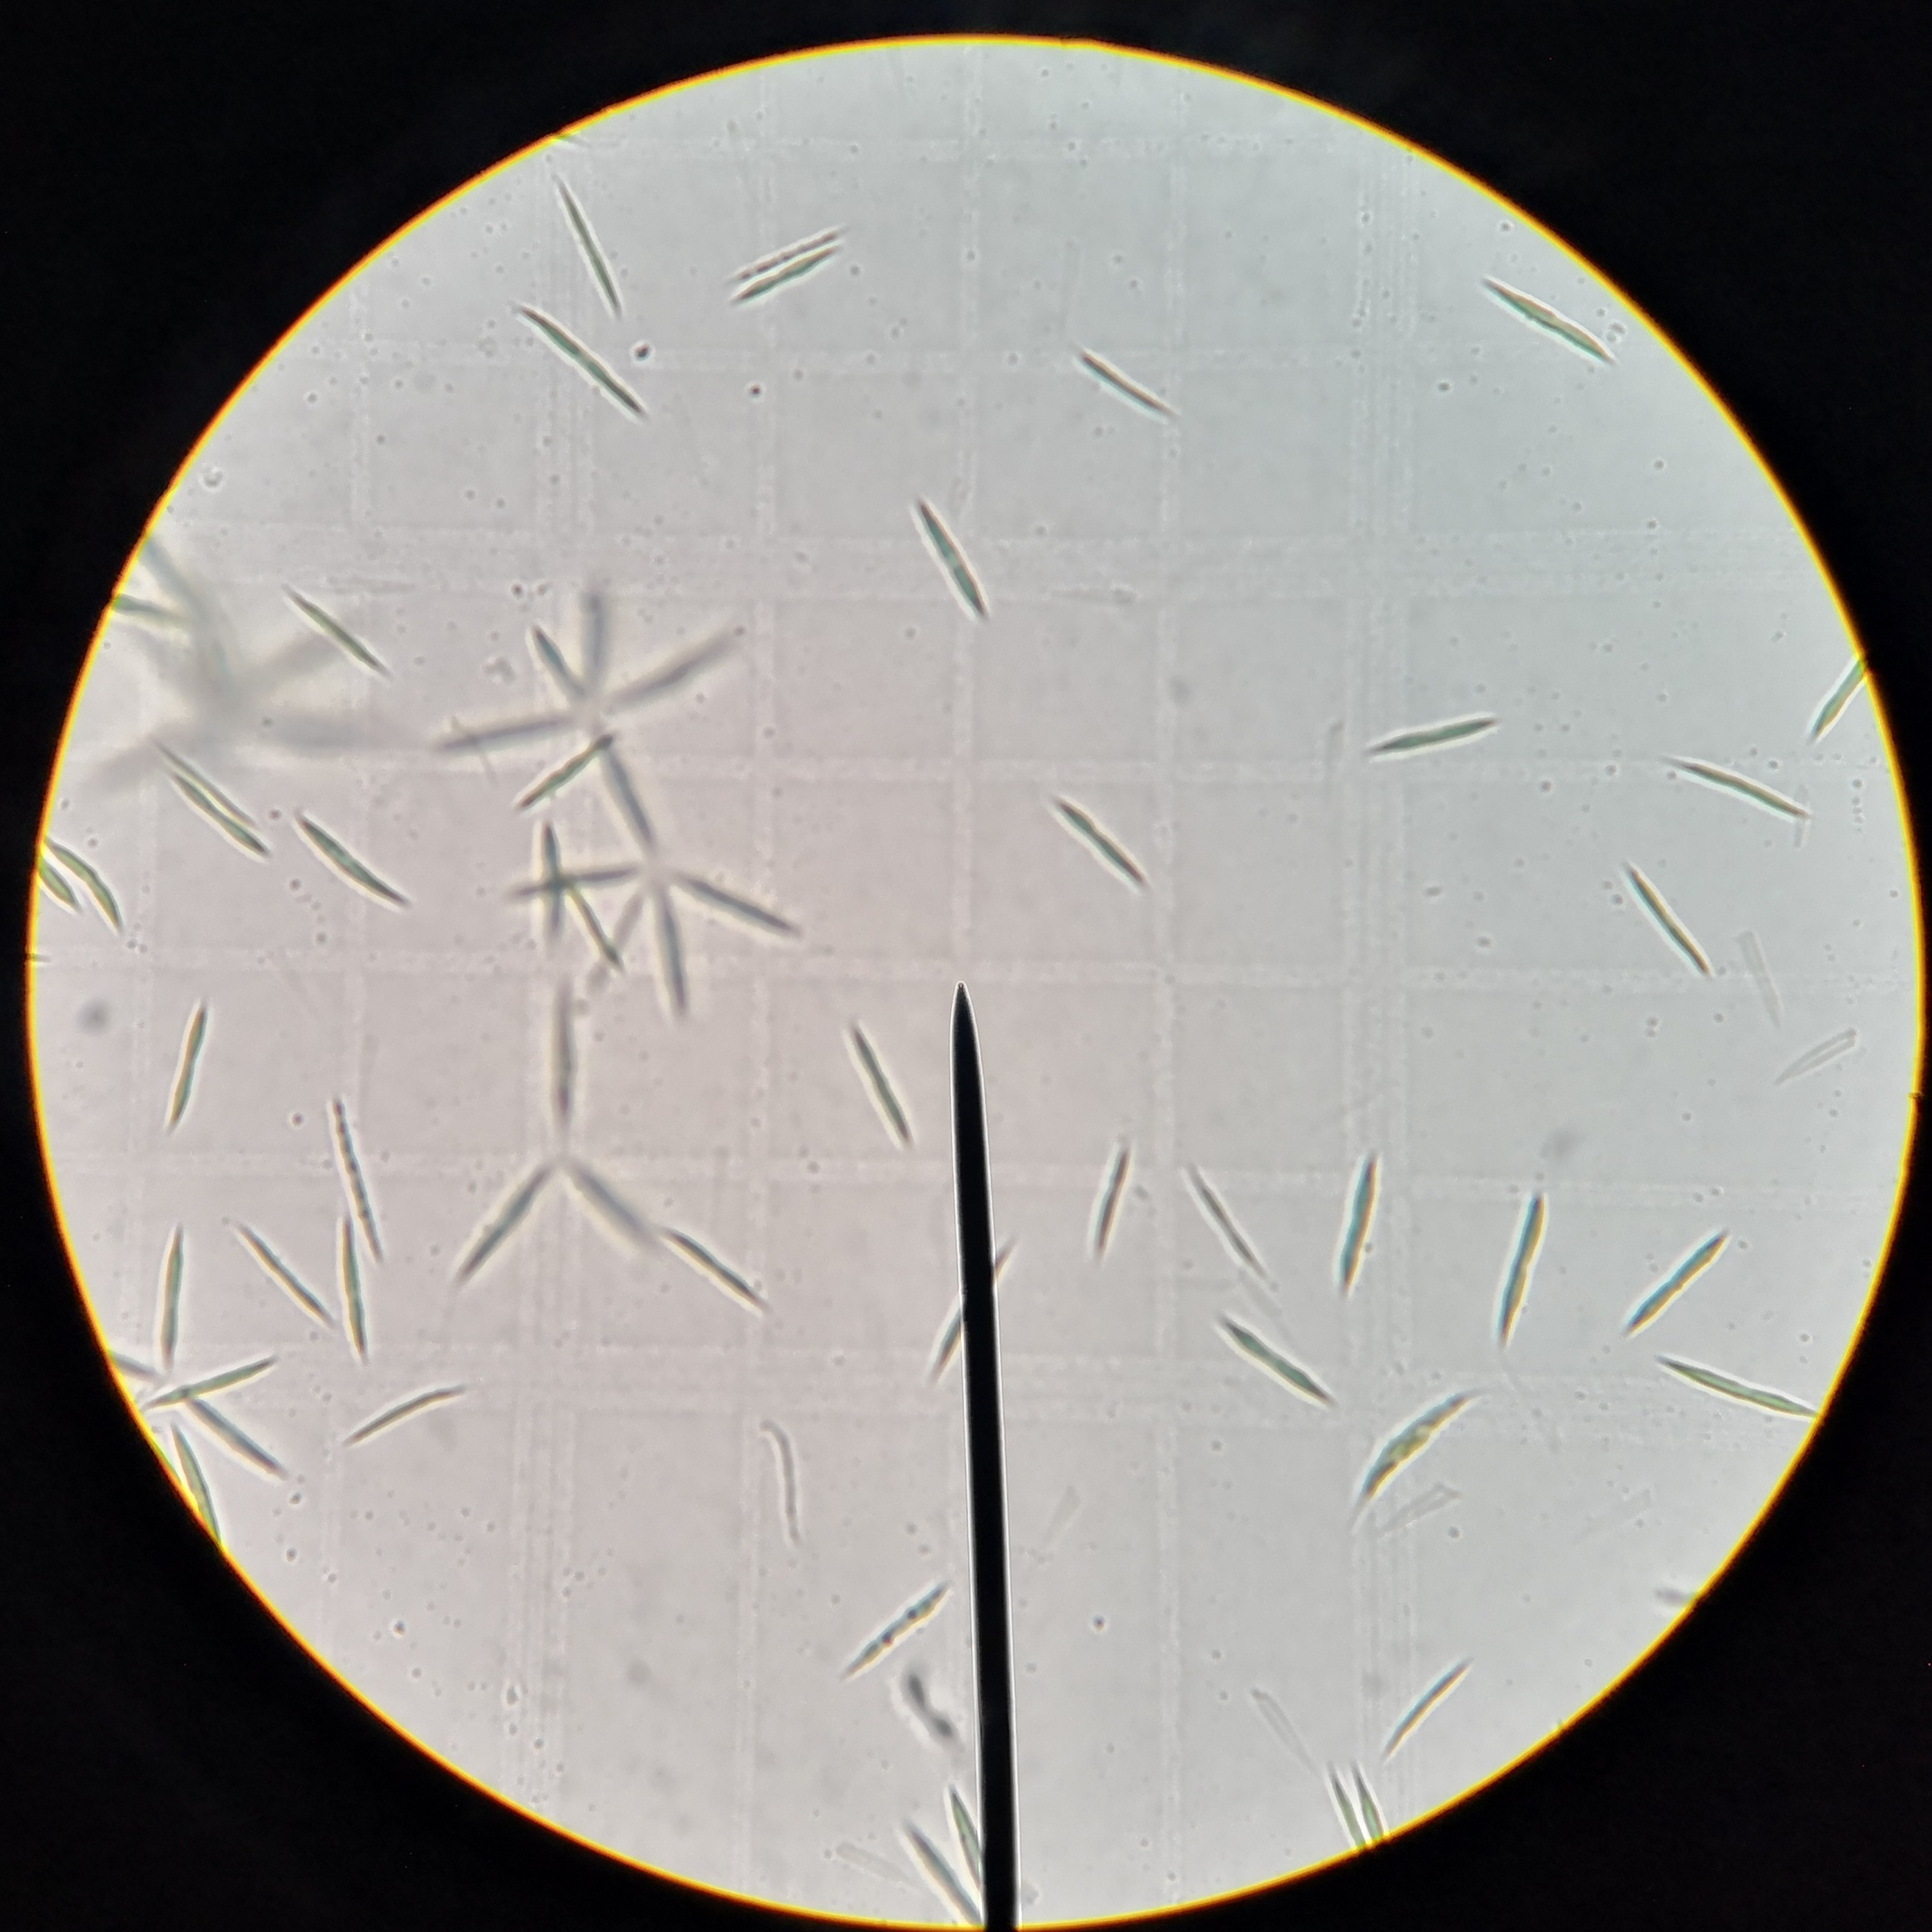Microalgae: (1357, 1384, 1488, 1504), (517, 294, 646, 409), (915, 1238, 1014, 1368), (1208, 1323, 1339, 1421), (605, 628, 734, 722), (1046, 782, 1150, 893), (1483, 283, 1619, 368), (1649, 1352, 1815, 1419), (294, 814, 414, 906), (665, 865, 809, 941), (832, 1583, 947, 1677), (554, 1152, 662, 1251), (324, 1092, 389, 1254), (456, 1171, 548, 1284), (1621, 862, 1707, 980), (1185, 1166, 1269, 1288), (1311, 1146, 1380, 1284), (717, 228, 839, 306), (48, 832, 131, 943), (918, 504, 989, 633), (1628, 1237, 1729, 1327), (669, 1215, 759, 1316), (600, 722, 667, 855), (276, 587, 393, 663), (340, 1373, 455, 1449), (550, 177, 617, 306), (1493, 1194, 1550, 1341), (186, 1398, 280, 1483), (239, 1226, 324, 1318), (1683, 763, 1810, 823), (136, 1357, 265, 1415), (172, 782, 269, 858), (897, 1838, 978, 1928), (754, 1408, 803, 1550), (1357, 708, 1509, 754), (847, 1030, 911, 1138), (515, 858, 640, 911), (644, 860, 685, 1019), (573, 883, 633, 989), (1077, 352, 1182, 412), (520, 740, 610, 805), (522, 621, 589, 708), (432, 713, 568, 754), (104, 587, 218, 635), (161, 1000, 198, 1143), (943, 1787, 991, 1891), (154, 1223, 188, 1362), (334, 1215, 368, 1346), (177, 1437, 219, 1539), (1092, 1143, 1132, 1249), (1394, 1672, 1460, 1737), (1819, 658, 1870, 736), (85, 1334, 159, 1387), (12, 858, 81, 911), (1352, 1769, 1391, 1856), (554, 1000, 579, 1132), (1327, 1773, 1364, 1842)
